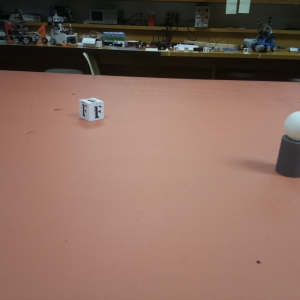blockF: (80, 97, 103, 121)
obstacle: (276, 108, 300, 181)
